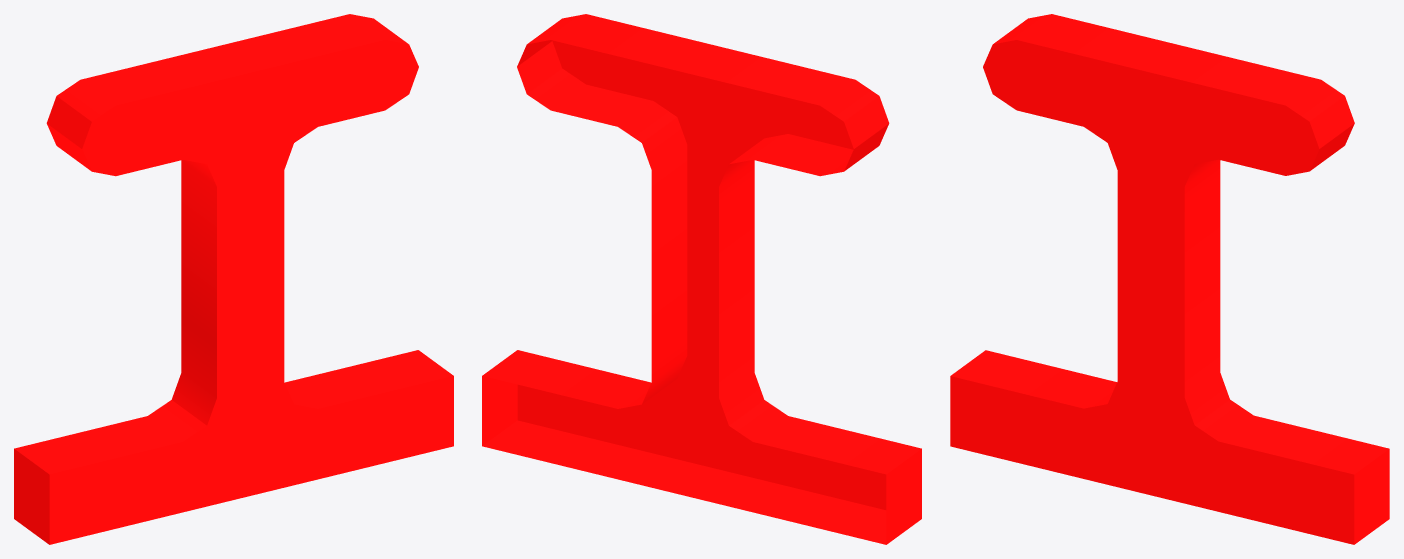
Rendered from T_Red.glb.
3 renders of one model, left to right at view 1: azimuth 30°, elevation 25°; view 2: azimuth 150°, elevation 25°; view 3: azimuth 330°, elevation 25°, orthographic.
Parts seen in each view (by area): view 1: T_R; view 2: T_R; view 3: T_R.
Part boxes in pixels (bbox=[...]): T_R: bbox=[14, 14, 453, 544]; T_R: bbox=[482, 14, 921, 544]; T_R: bbox=[950, 14, 1389, 544].
Bounding box in the file's own units: 0.4999 × 0.4998 × 0.0759.
Materials: 1 (1 with a texture image).
